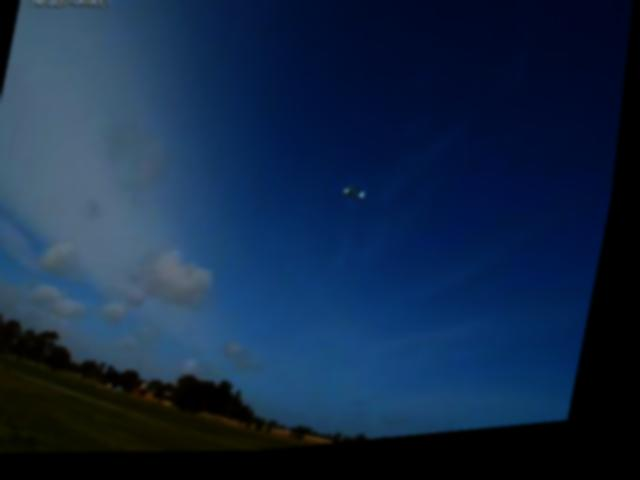uav: (339, 181, 380, 218)
